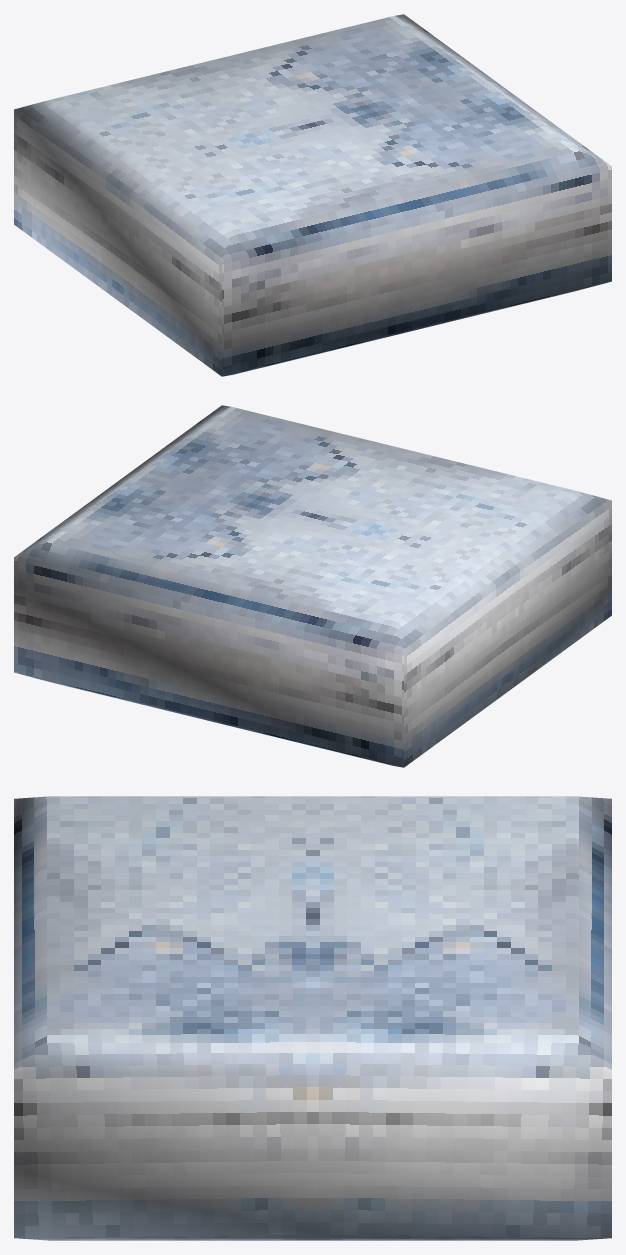
File: ClothesPile001.glb
3 renders of one model, top to bottom at view 1: azimuth 30°, elevation 25°; view 2: azimuth 150°, elevation 25°; view 3: azimuth 270°, elevation 25°, orthographic. The views are drawn at different scales.
Parts seen in each view (by area): view 1: clothes pile.001; view 2: clothes pile.001; view 3: clothes pile.001.
Boxes of the visible parts, box(x1,y1,x2,y2) form: clothes pile.001: box(14, 14, 611, 376); clothes pile.001: box(14, 405, 611, 767); clothes pile.001: box(14, 796, 611, 1240).
Bounding box in the file's own units: 0.26 × 0.09 × 0.24.
1 material, 1 textured.
